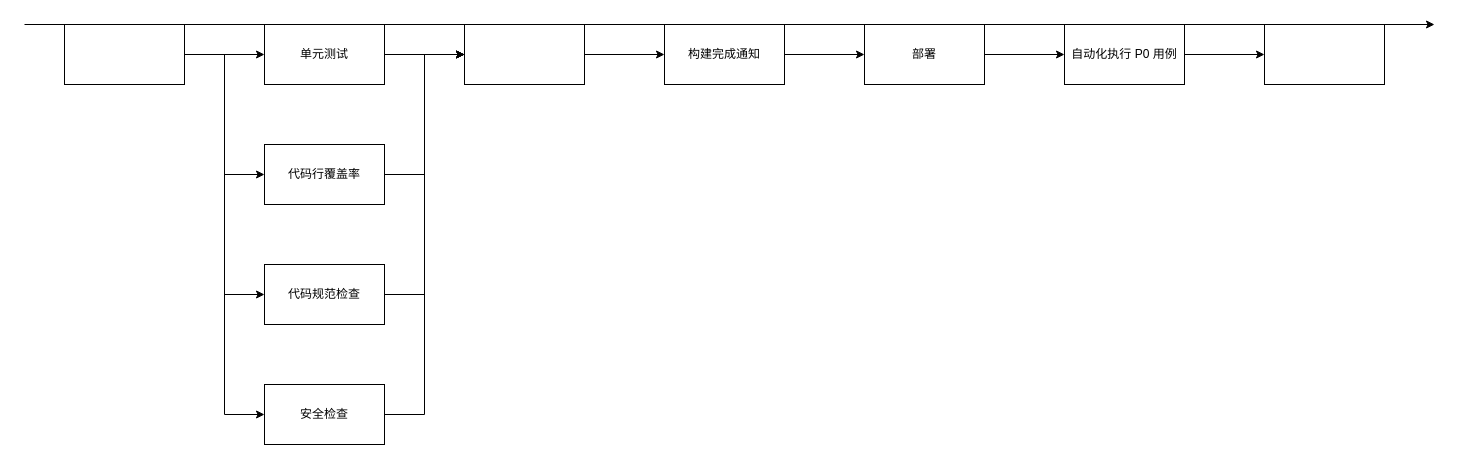
Some shapes in this 1460 by 462 pixel diagram are drawn without their labels. Each missing label, with the centre of its shape:
发送提测通知: the point at 1324,54
拉取代码: the point at 124,54
构建镜像并推送: the point at 524,54
